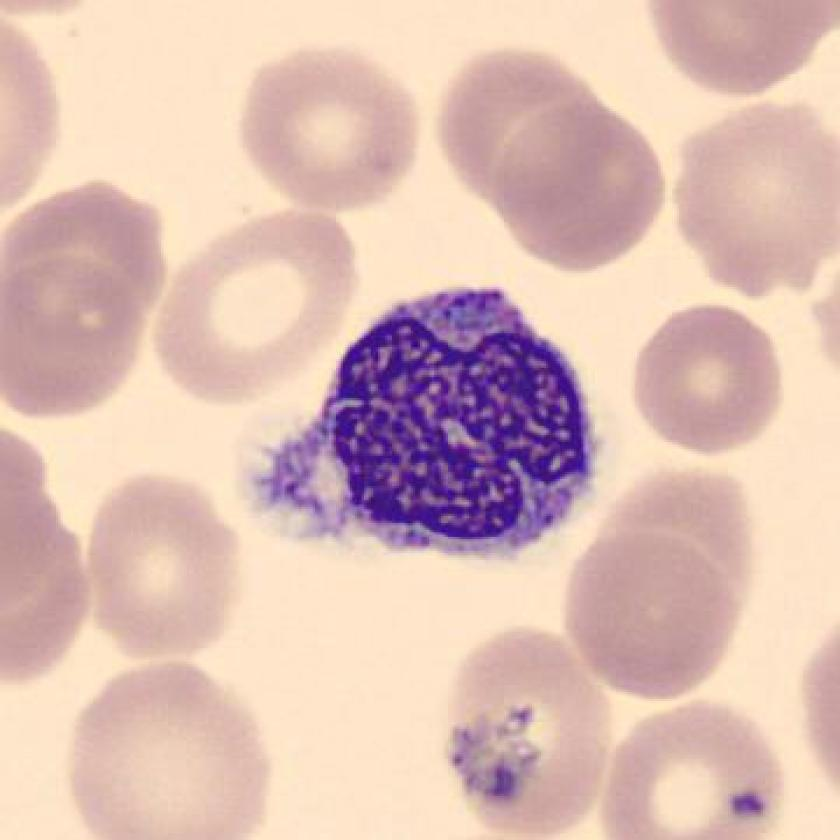monocyte: (227, 253, 617, 598)
